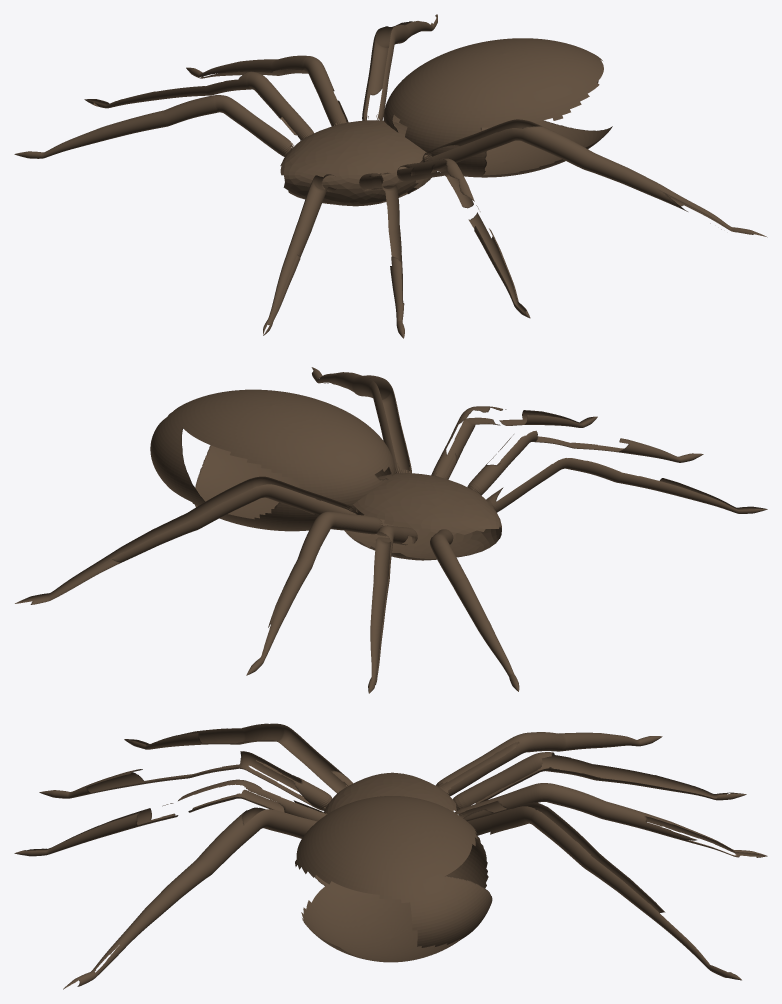
Rendered from spider3.0.fbx.
The picture shows the model from 3 angles, top to bottom: view 1: azimuth 30°, elevation 25°; view 2: azimuth 150°, elevation 25°; view 3: azimuth 270°, elevation 25°; orthographic projection. The views are drawn at different scales.
Parts seen in each view (by area): view 1: Spider; view 2: Spider; view 3: Spider.
Part boxes in pixels (bbox=[...]): Spider: bbox=[14, 14, 767, 338]; Spider: bbox=[15, 367, 767, 693]; Spider: bbox=[14, 723, 767, 989].
Size of the model in its own units: 61.19 by 13.24 by 76.46.
